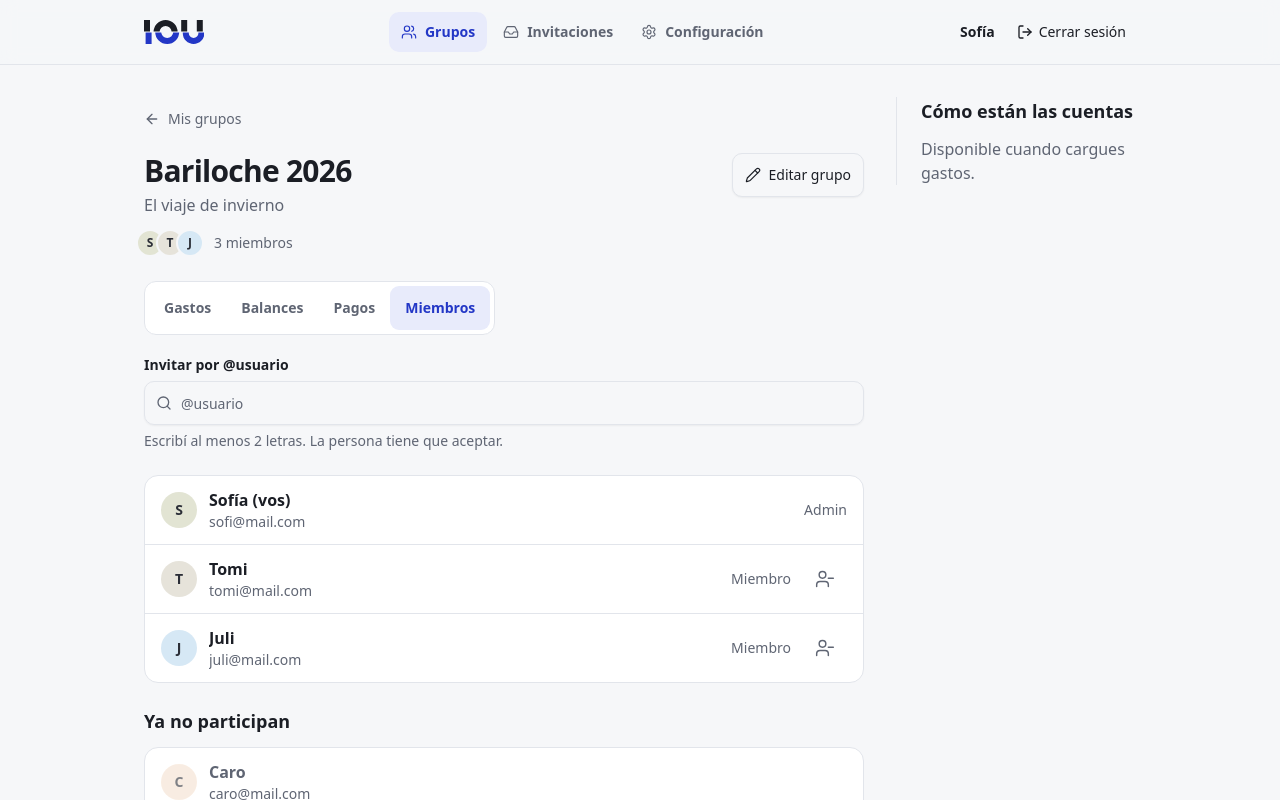
Test: Quitar del grupo (admin) › al quitar, la lista se actualiza con la respuesta sin esperar los refetch, avisa y mueve el foco
Click the button named "Quitar a Tomi" at (825, 579), box [803,557,847,601]
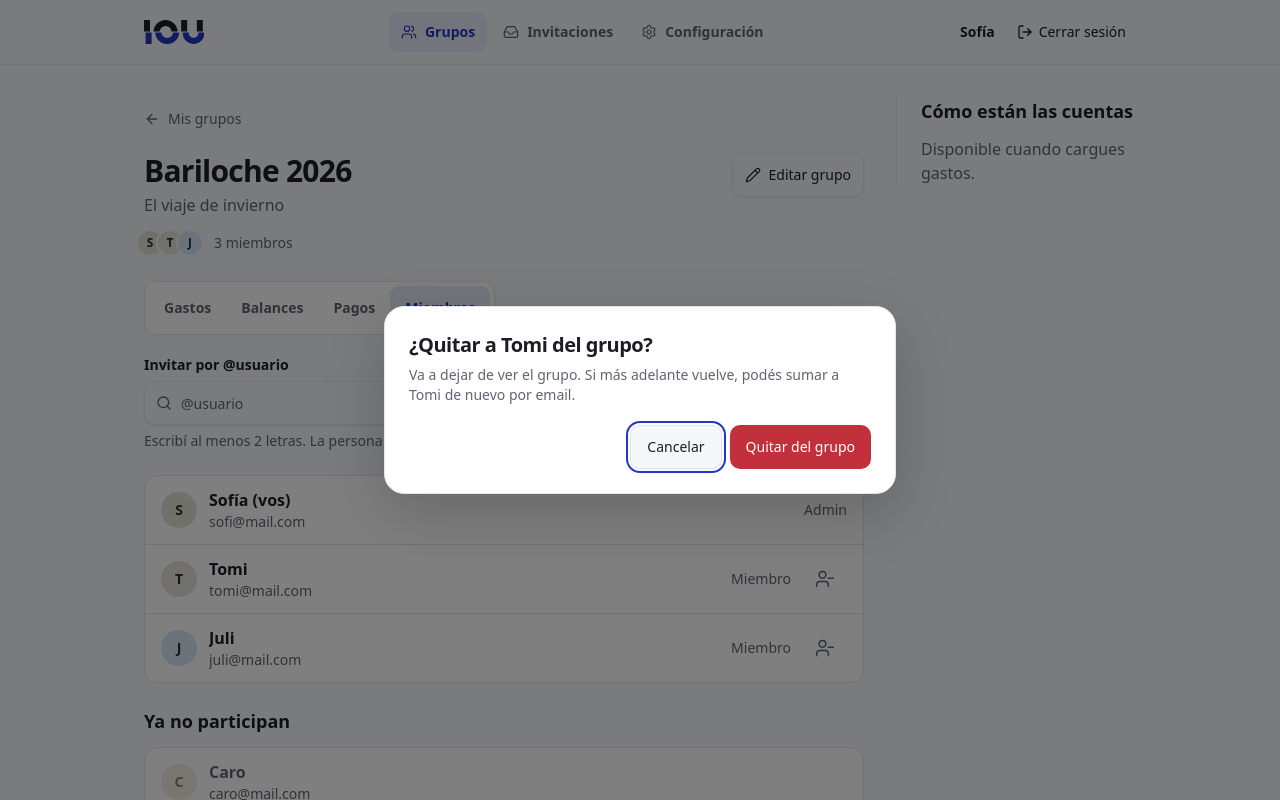
Click the button "Quitar del grupo" at (800, 447), box [730,425,871,469]
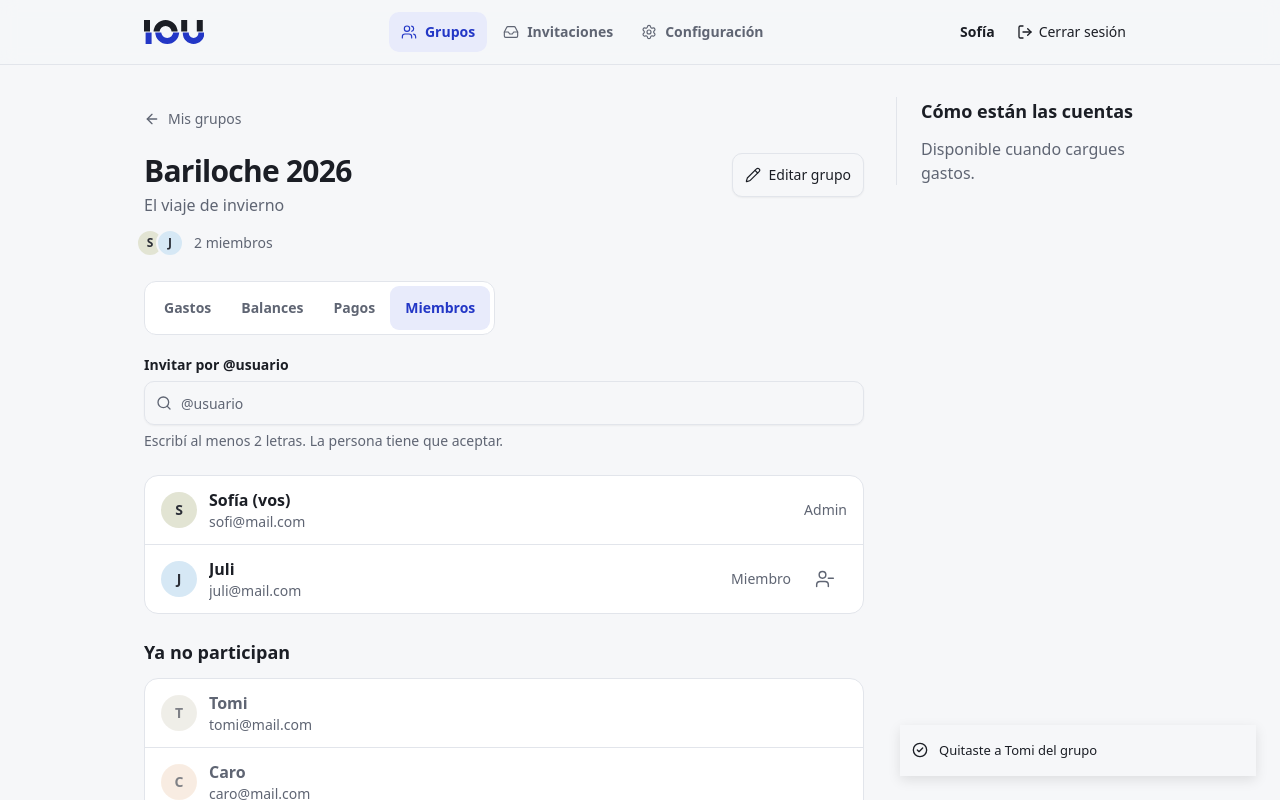
Check: the text "Tomi" is shown, box [209,692,248,714]
Check: the text "Quitaste a Tomi del grupo" is shown, box [939,740,1097,760]
